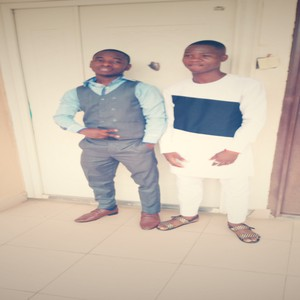Fulokoja_male_student: (164, 40, 269, 244), (61, 50, 160, 222)
